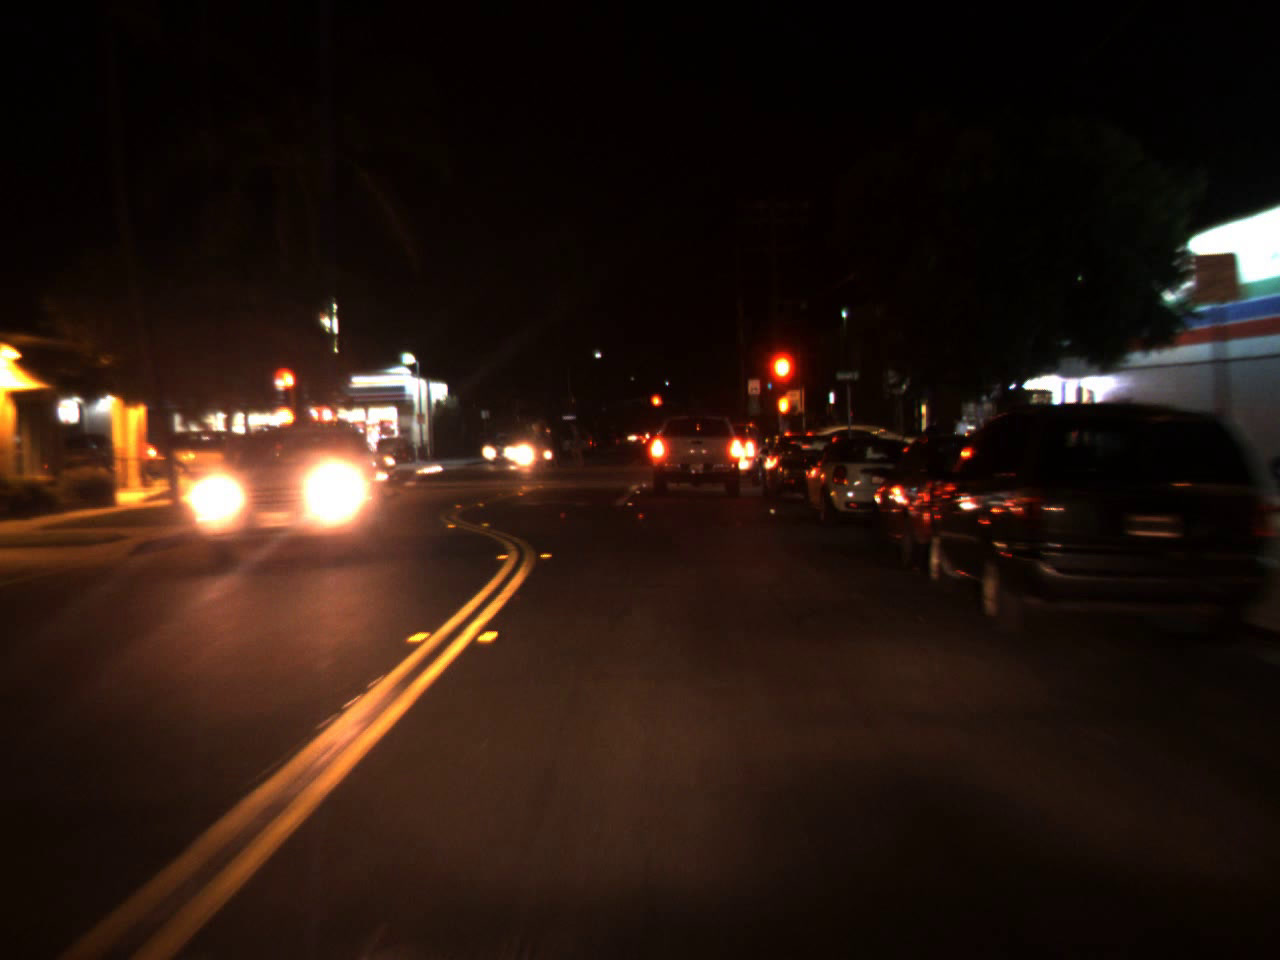stop: (764, 344, 800, 422), (269, 362, 300, 421), (649, 393, 662, 420)
